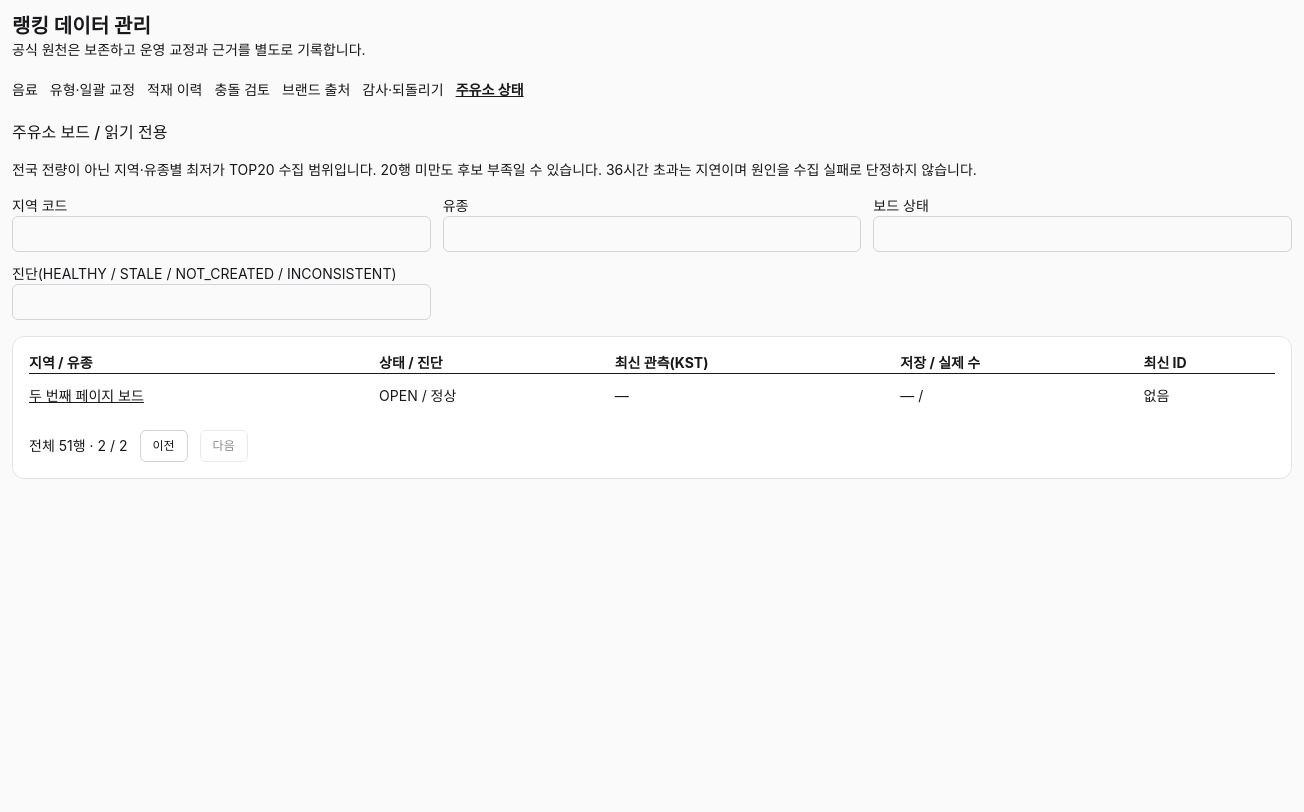
Scenario: round 1 reviewed UI contracts › round2 F11 board detail drops the collection offset and loads snapshots from page1
Click the link "두 번째 페이지 보드".
click(86, 396)  # box [29, 387, 144, 404]
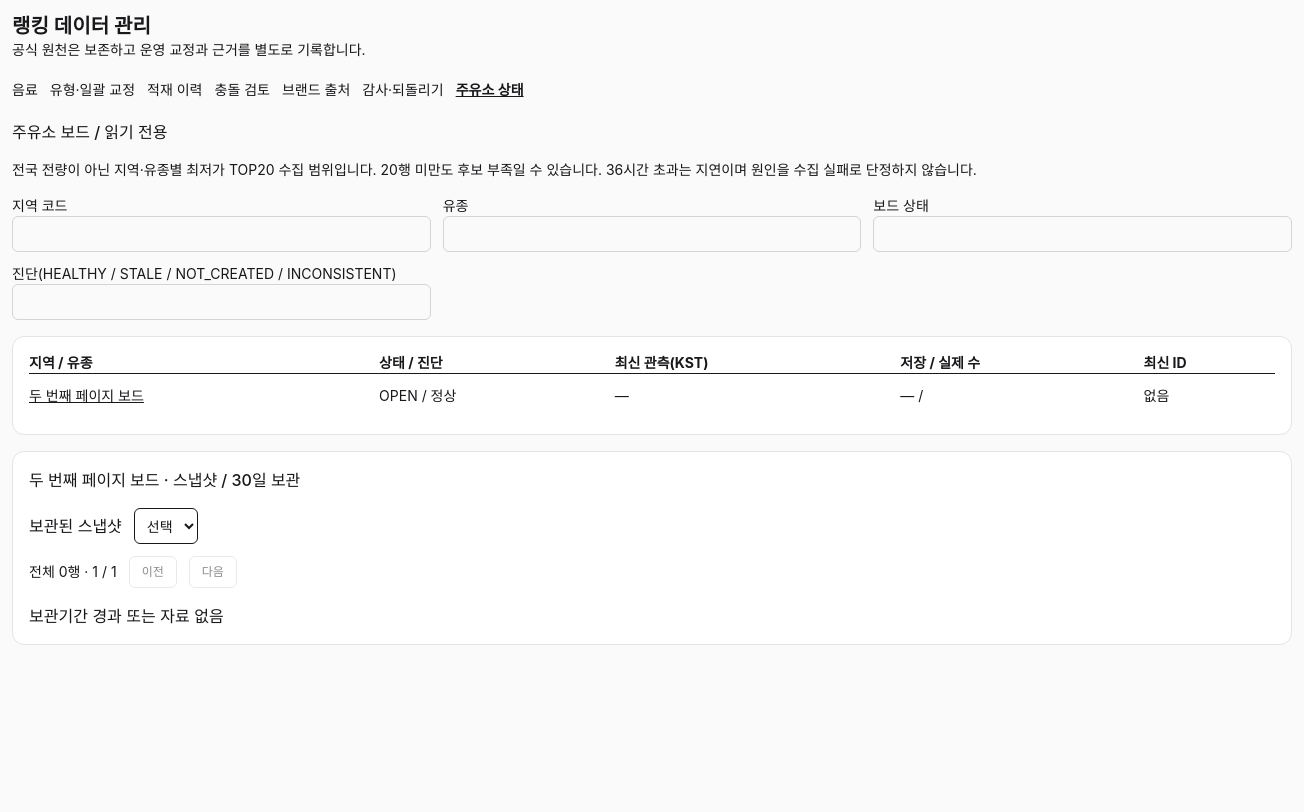
Expected: the heading "두 번째 페이지 보드 · 스냅샷 / 30일 보관" is shown, [29, 470, 300, 490]
